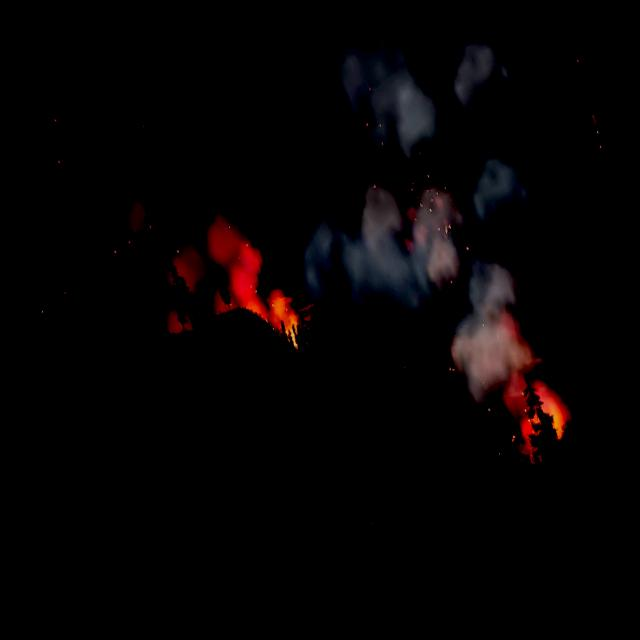fire: (502, 373, 578, 463), (240, 278, 310, 357)
smoke: (233, 0, 605, 479), (0, 131, 284, 374)
